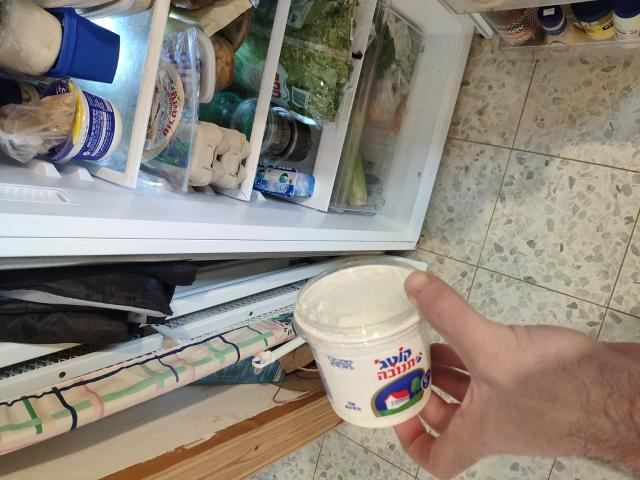cotage: (303, 266, 444, 429)
